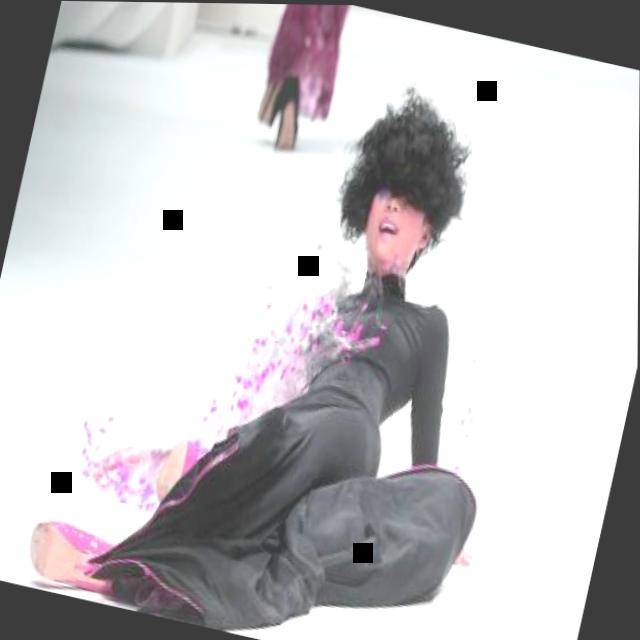Fall-Detected: (37, 7, 563, 640)
